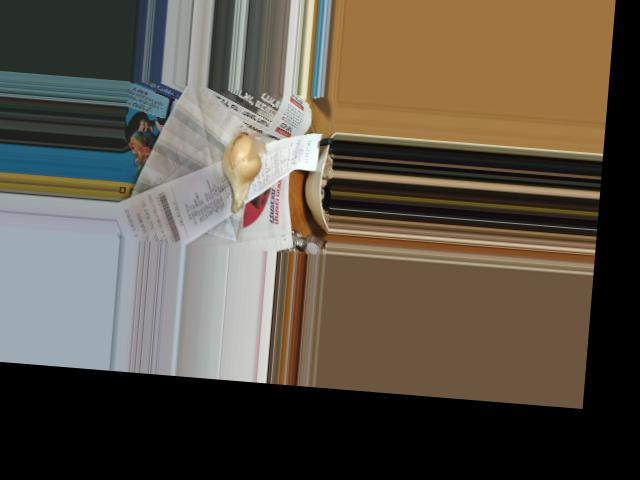onion: (220, 133, 263, 203)
